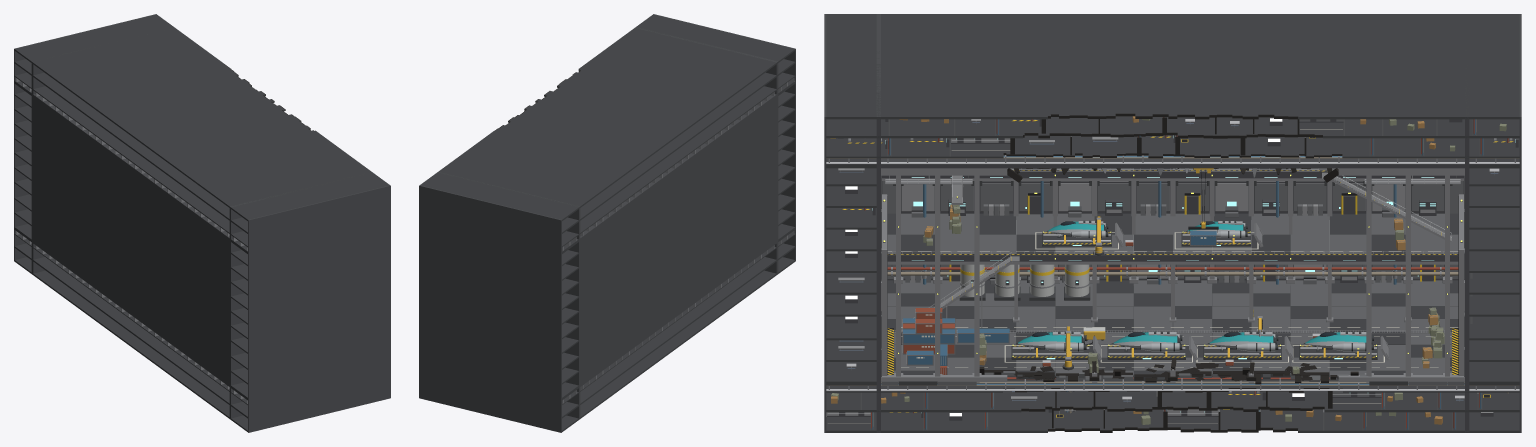
The model's file is mother_bay.glb.
3 views of the same model, side by side, from view 1: azimuth 30°, elevation 25°; view 2: azimuth 150°, elevation 25°; view 3: azimuth 270°, elevation 25° (orthographic). The views are drawn at different scales.
Visible parts, largest first — view 1: mother_bay; view 2: mother_bay; view 3: mother_bay.
Boxes of the visible parts, x1=… form: mother_bay: x1=14, y1=14, x2=390, y2=432; mother_bay: x1=419, y1=14, x2=795, y2=432; mother_bay: x1=824, y1=14, x2=1521, y2=432.
Bounding box in the file's own units: 56.02 × 80.02 × 160.
